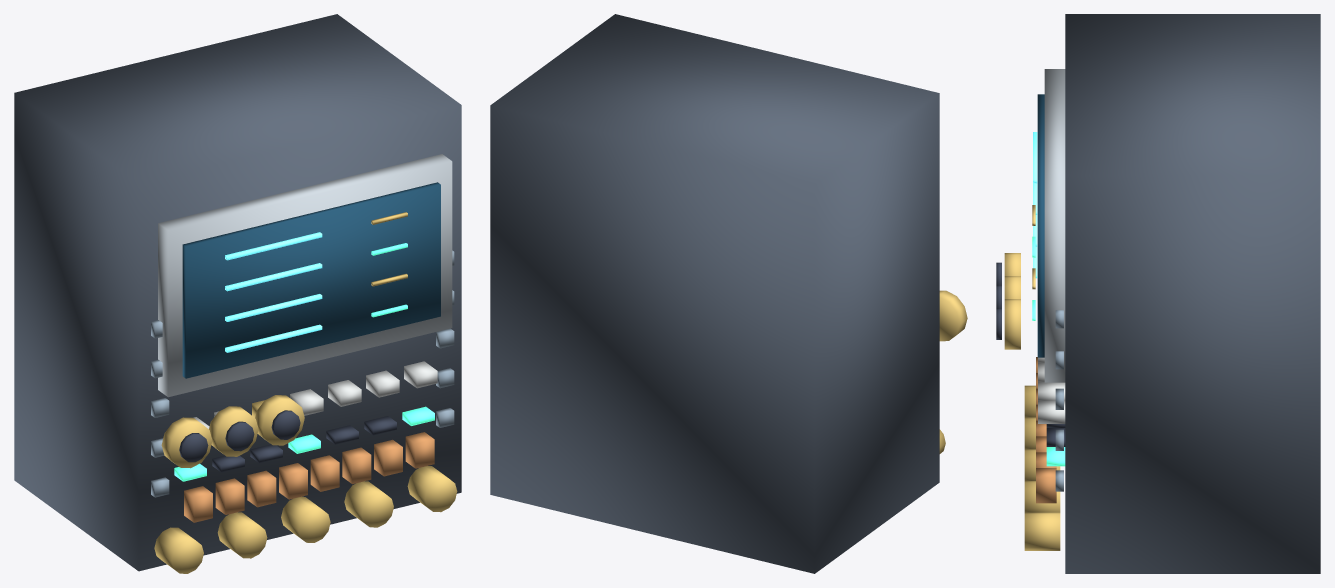
The model's file is 78_L86_HardwareInterlockDiagnosticRack.glb.
3 renders of one model, left to right at view 1: azimuth 30°, elevation 25°; view 2: azimuth 150°, elevation 25°; view 3: azimuth 270°, elevation 25°, orthographic. The views are drawn at different scales.
Parts seen in each view (by area): view 1: L86_HardwareInterlockDiagnost_Part_0000, L86_HardwareInterlockDiagnost_Part_0002, L86_HardwareInterlockDiagnost_Part_0001, L86_HardwareInterlockDiagnost_Part_0004, L86_HardwareInterlockDiagnost_Part_0009, L86_HardwareInterlockDiagnost_Part_0006, L86_HardwareInterlockDiagnost_Part_0003, L86_HardwareInterlockDiagnost_Part_0008, L86_HardwareInterlockDiagnost_Part_0007, L86_HardwareInterlockDiagnost_Part_0005, L86_HardwareInterlockDiagnost_Part_0010, L86_HardwareInterlockDiagnost_Part_0014 (+4 smaller); view 2: L86_HardwareInterlockDiagnost_Part_0000, L86_HardwareInterlockDiagnost_Part_0010; view 3: L86_HardwareInterlockDiagnost_Part_0000, L86_HardwareInterlockDiagnost_Part_0001, L86_HardwareInterlockDiagnost_Part_0004, L86_HardwareInterlockDiagnost_Part_0002, L86_HardwareInterlockDiagnost_Part_0009, L86_HardwareInterlockDiagnost_Part_0006, L86_HardwareInterlockDiagnost_Part_0008, L86_HardwareInterlockDiagnost_Part_0014, L86_HardwareInterlockDiagnost_Part_0003, L86_HardwareInterlockDiagnost_Part_0005.
Boxes of the visible parts, left/top/right/bottom form: L86_HardwareInterlockDiagnost_Part_0000: left=14, top=14, right=461, bottom=571; L86_HardwareInterlockDiagnost_Part_0002: left=182, top=182, right=440, bottom=378; L86_HardwareInterlockDiagnost_Part_0001: left=158, top=154, right=452, bottom=397; L86_HardwareInterlockDiagnost_Part_0004: left=154, top=212, right=457, bottom=573; L86_HardwareInterlockDiagnost_Part_0009: left=184, top=432, right=434, bottom=522; L86_HardwareInterlockDiagnost_Part_0006: left=193, top=361, right=437, bottom=428; L86_HardwareInterlockDiagnost_Part_0003: left=225, top=232, right=322, bottom=352; L86_HardwareInterlockDiagnost_Part_0008: left=151, top=250, right=454, bottom=497; L86_HardwareInterlockDiagnost_Part_0007: left=212, top=416, right=396, bottom=472; L86_HardwareInterlockDiagnost_Part_0005: left=174, top=243, right=434, bottom=481; L86_HardwareInterlockDiagnost_Part_0010: left=161, top=417, right=212, bottom=468; L86_HardwareInterlockDiagnost_Part_0014: left=255, top=395, right=304, bottom=445; L86_HardwareInterlockDiagnost_Part_0000: left=490, top=14, right=939, bottom=573; L86_HardwareInterlockDiagnost_Part_0010: left=939, top=290, right=967, bottom=341; L86_HardwareInterlockDiagnost_Part_0000: left=1065, top=14, right=1320, bottom=573; L86_HardwareInterlockDiagnost_Part_0001: left=1044, top=69, right=1065, bottom=382; L86_HardwareInterlockDiagnost_Part_0004: left=1024, top=205, right=1060, bottom=550; L86_HardwareInterlockDiagnost_Part_0002: left=1037, top=94, right=1044, bottom=357; L86_HardwareInterlockDiagnost_Part_0009: left=1036, top=357, right=1056, bottom=503; L86_HardwareInterlockDiagnost_Part_0006: left=1038, top=357, right=1065, bottom=423; L86_HardwareInterlockDiagnost_Part_0008: left=1055, top=310, right=1063, bottom=491; L86_HardwareInterlockDiagnost_Part_0014: left=1004, top=299, right=1020, bottom=349; L86_HardwareInterlockDiagnost_Part_0003: left=1033, top=132, right=1037, bottom=278; L86_HardwareInterlockDiagnost_Part_0005: left=1032, top=236, right=1065, bottom=466.
Size of the model in its own units: 0.9792 by 1.12 by 0.8284.
